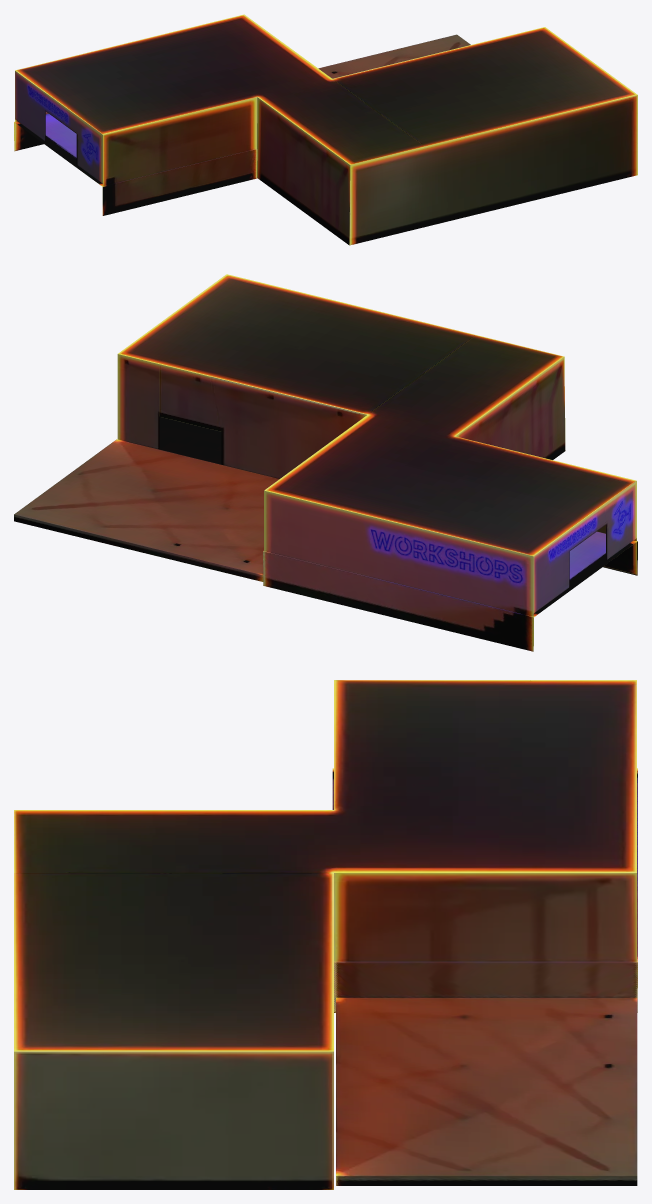
Rendered from Library-transformed.glb.
The picture shows the model from 3 angles, top to bottom: view 1: azimuth 30°, elevation 25°; view 2: azimuth 150°, elevation 25°; view 3: azimuth 270°, elevation 25°; orthographic projection. The views are drawn at different scales.
Parts seen in each view (by area): view 1: Cube.549; view 2: Cube.549; view 3: Cube.549.
Part boxes in pixels (bbox=[...]): Cube.549: bbox=[14, 14, 637, 245]; Cube.549: bbox=[14, 274, 637, 651]; Cube.549: bbox=[14, 680, 637, 1189].
Size of the model in its own units: 749 by 131 by 531.
1 material, 1 textured.
